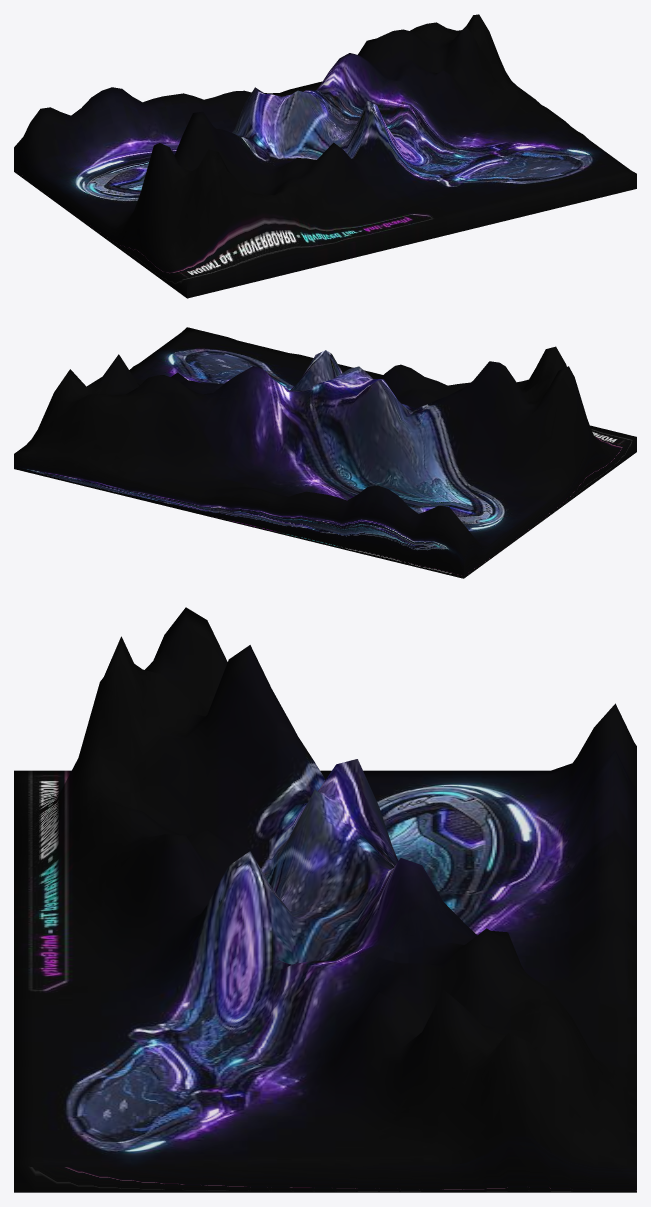
File: MOUNT_04_Hoverboard.glb
The picture shows the model from 3 angles, top to bottom: view 1: azimuth 30°, elevation 25°; view 2: azimuth 150°, elevation 25°; view 3: azimuth 270°, elevation 25°; orthographic projection. The views are drawn at different scales.
Visible parts, largest first — view 1: MOUNT_04_Hoverboard; view 2: MOUNT_04_Hoverboard; view 3: MOUNT_04_Hoverboard.
Boxes of the visible parts, <box> form: MOUNT_04_Hoverboard: <box>14,14,636,298</box>; MOUNT_04_Hoverboard: <box>14,327,636,578</box>; MOUNT_04_Hoverboard: <box>14,607,636,1192</box>.
Size of the model in its own units: 2 by 0.51 by 1.33.
1 material, 1 textured.
